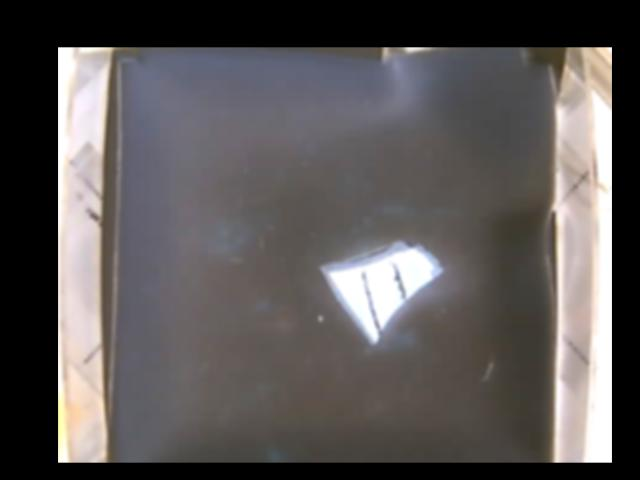China: (320, 237, 443, 342)
